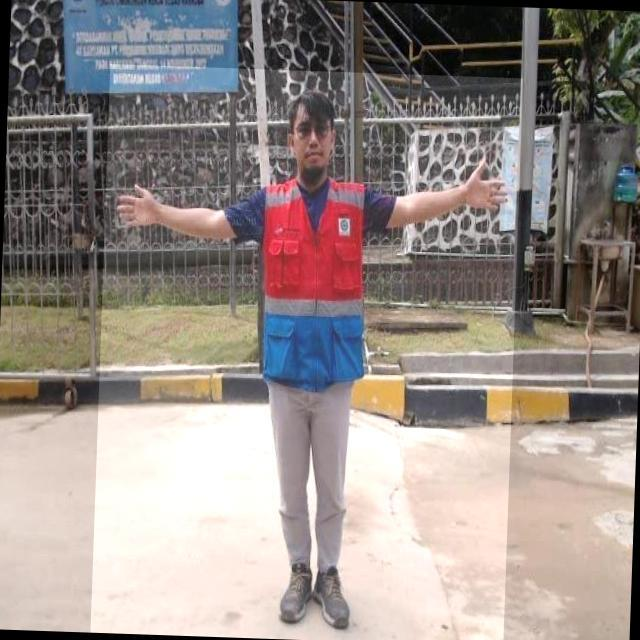Human: (90, 63, 523, 640)
Safety Boot: (312, 563, 355, 630), (280, 559, 315, 628)
Safety Vest: (256, 176, 370, 385)
